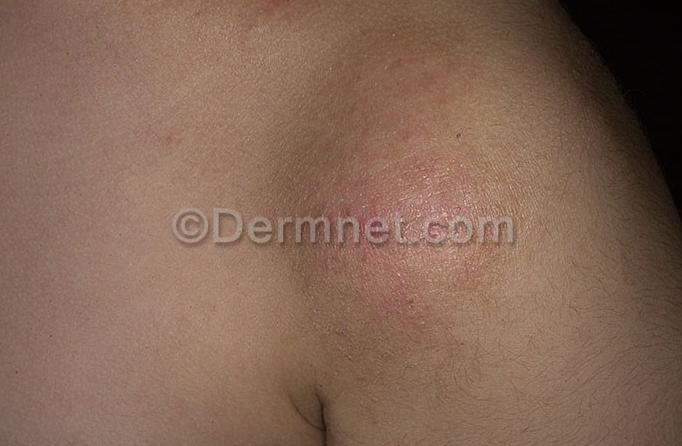eritema 1: (327, 182, 467, 286)
excoriacion 1: (276, 139, 548, 335)
xerosis 2: (205, 0, 574, 348)
